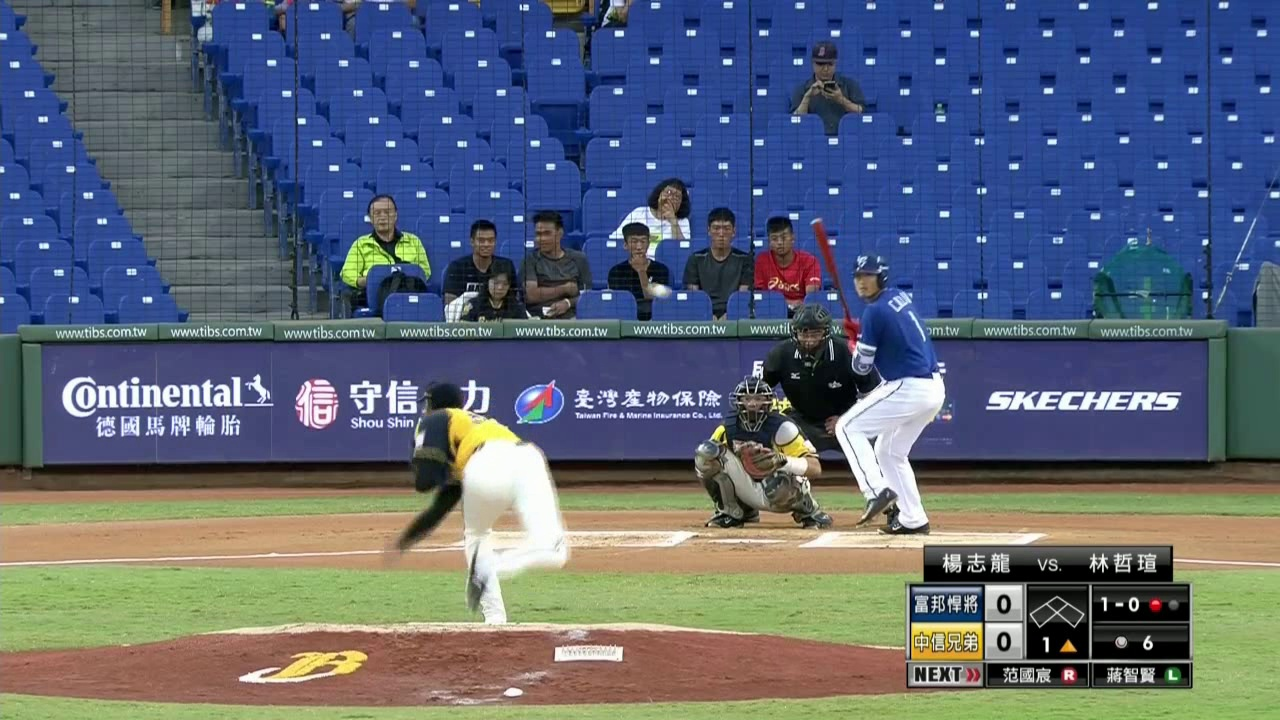ball: (648, 281, 671, 301)
base: (1029, 590, 1086, 629)
bat: (804, 214, 853, 327)
out: (1148, 595, 1181, 614)
score1: (985, 585, 1022, 620)
score2: (985, 622, 1022, 658)
session: (1038, 634, 1079, 654)
strikeball: (1098, 593, 1140, 613)
total: (1112, 630, 1159, 652)
